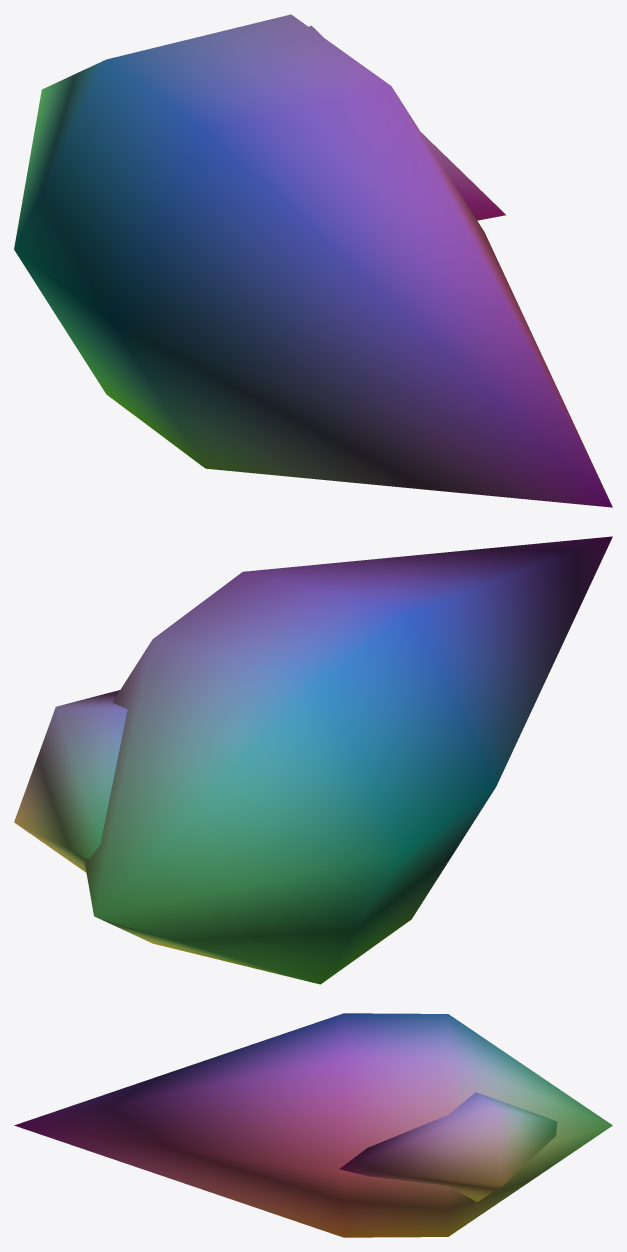
File: SM_FX_IceShard.fbx
3 views of the same model, one above another, from view 1: azimuth 30°, elevation 25°; view 2: azimuth 150°, elevation 25°; view 3: azimuth 270°, elevation 25° (orthographic). The views are drawn at different scales.
Visible parts, largest first — view 1: SM_FX_IceShard; view 2: SM_FX_IceShard; view 3: SM_FX_IceShard.
Boxes of the visible parts, box(x1,y1,x2,y2) form: SM_FX_IceShard: box(14, 14, 612, 507); SM_FX_IceShard: box(14, 536, 612, 984); SM_FX_IceShard: box(14, 1013, 612, 1237).
Bounding box in the file's own units: 0.1024 × 0.0847 × 0.26.
